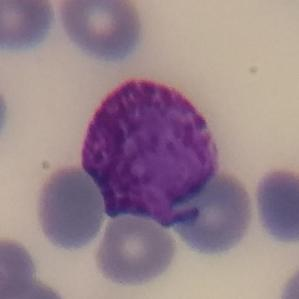Basophil: (68, 73, 218, 224)
RBC: (167, 166, 258, 258), (92, 206, 180, 289), (32, 163, 110, 254), (55, 0, 146, 64), (249, 164, 299, 248), (0, 0, 58, 55), (0, 235, 39, 297), (0, 270, 71, 299), (275, 259, 299, 299), (0, 77, 12, 151)
